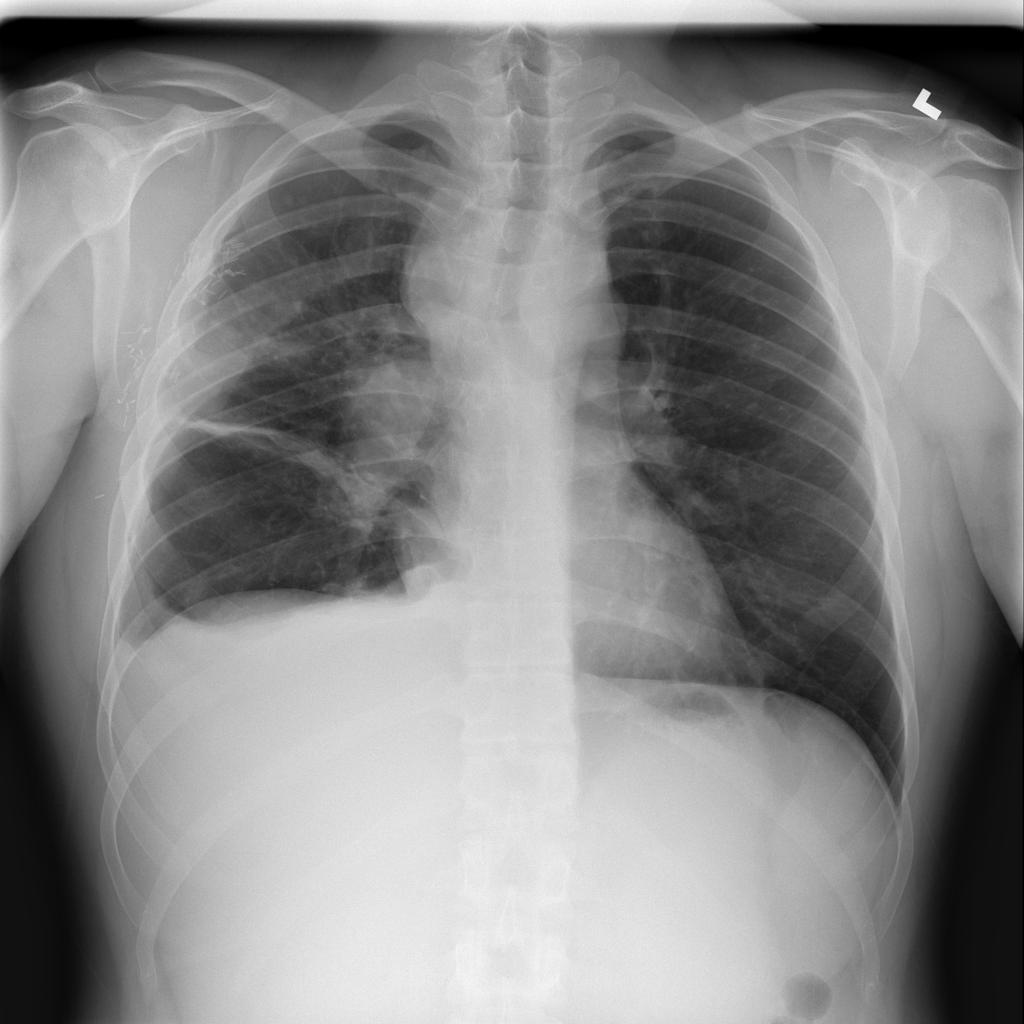nodule: (327, 336, 462, 470)
